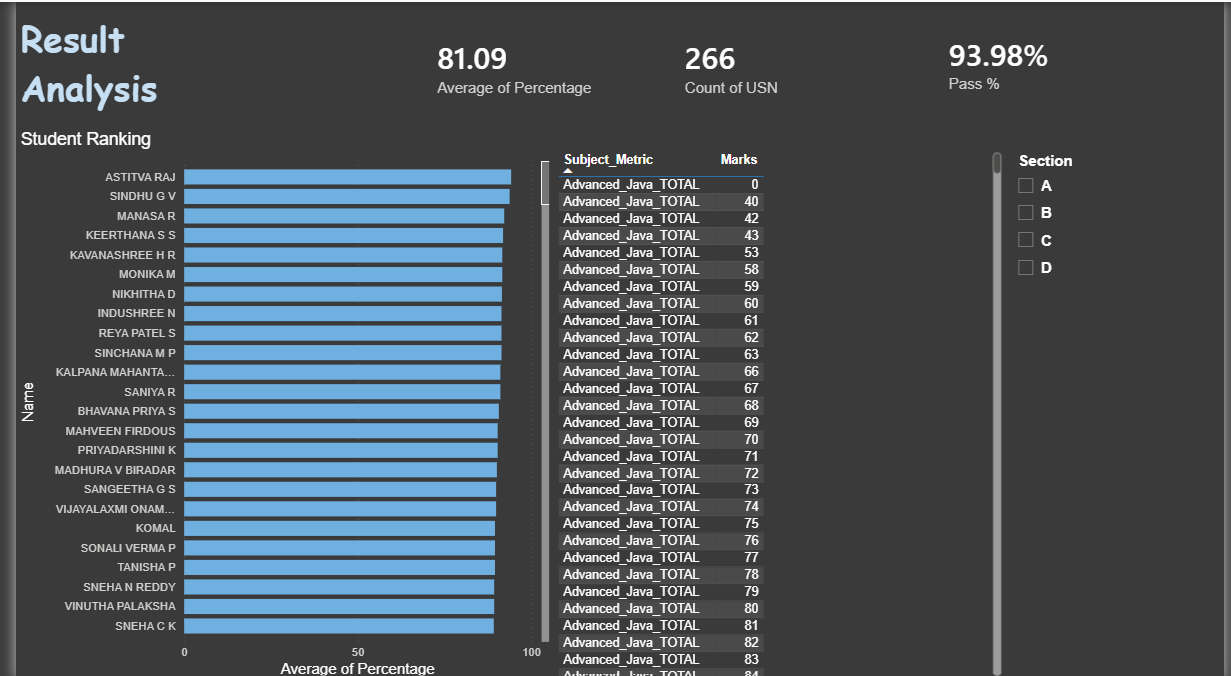

This screenshot's page, from the dashboard's own definition file:
{"tool":"powerbi","page":{"name":"Overview","canvas":[1280,720],"ordinal":0},"visuals":[{"type":"cardVisual","fields":{"Data":["Avg(All_Students.Percentage)"]},"box":[416.7,0,249.7,135.2],"z":0},{"type":"cardVisual","fields":{"Data":["CountNonNull(All_Students.USN)"]},"box":[679.2,0,268.8,135.2],"z":1000},{"type":"cardVisual","fields":{"Data":["All_Students.Pass %"]},"box":[959.1,0,300.6,128.8],"z":2000},{"type":"slicer","fields":{"Values":["All_Students.Section"]},"box":[1049.8,154.3,210,151.1],"z":3000},{"type":"clusteredBarChart","title":"Student Ranking","fields":{"Category":["All_Students.Name"],"Y":["Avg(All_Students.Percentage)"]},"box":[0,135,570,585],"z":4000},{"type":"tableEx","fields":{"Values":["Subject_Detail.Subject_Metric","Subject_Detail.Marks"]},"box":[569.4,154.3,480.4,566.3],"z":5000},{"type":"textbox","box":[0,6.4,182.9,122.5],"z":6000}]}

Visuals, with their boxes in screenshot pixels (x1, y1, x2, y2), scaled from the page's 1280x720 canvas onto the 1231x676 screenshot:
cardVisual - Avg(All_Students.Percentage): 401,0,641,127
cardVisual - CountNonNull(All_Students.USN): 653,0,912,127
cardVisual - All_Students.Pass %: 922,0,1211,121
slicer - All_Students.Section: 1010,145,1212,287
"Student Ranking" clusteredBarChart: 0,127,548,675
tableEx - Subject_Detail.Subject_Metric x Subject_Detail.Marks: 548,145,1010,675
textbox: 0,6,176,121
